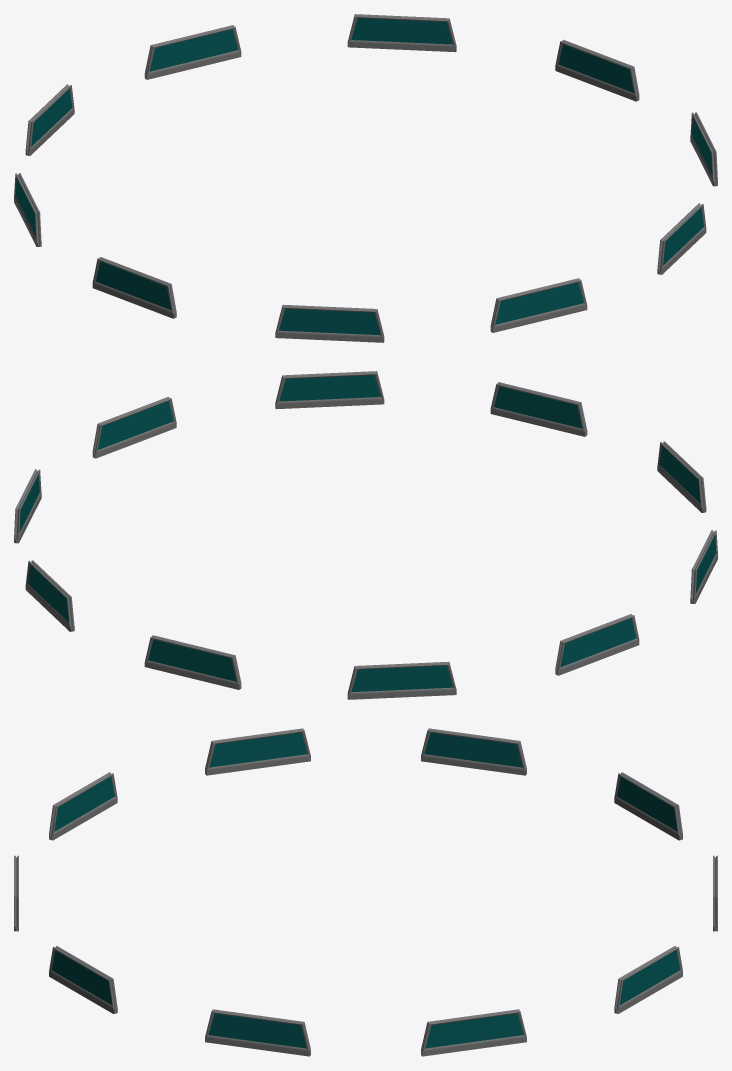
The model's file is podiumBanner_low.fbx.
The picture shows the model from 3 angles, top to bottom: view 1: azimuth 30°, elevation 25°; view 2: azimuth 150°, elevation 25°; view 3: azimuth 270°, elevation 25°; orthographic projection.
Parts seen in each view (by area): view 1: podiumBanner_low; view 2: podiumBanner_low; view 3: podiumBanner_low.
Boxes of the visible parts, left/top/right/bottom form: podiumBanner_low: left=14, top=14, right=717, bottom=342; podiumBanner_low: left=14, top=371, right=717, bottom=699; podiumBanner_low: left=14, top=728, right=717, bottom=1056.
Bounding box in the file's own units: 500 × 24.92 × 500.
